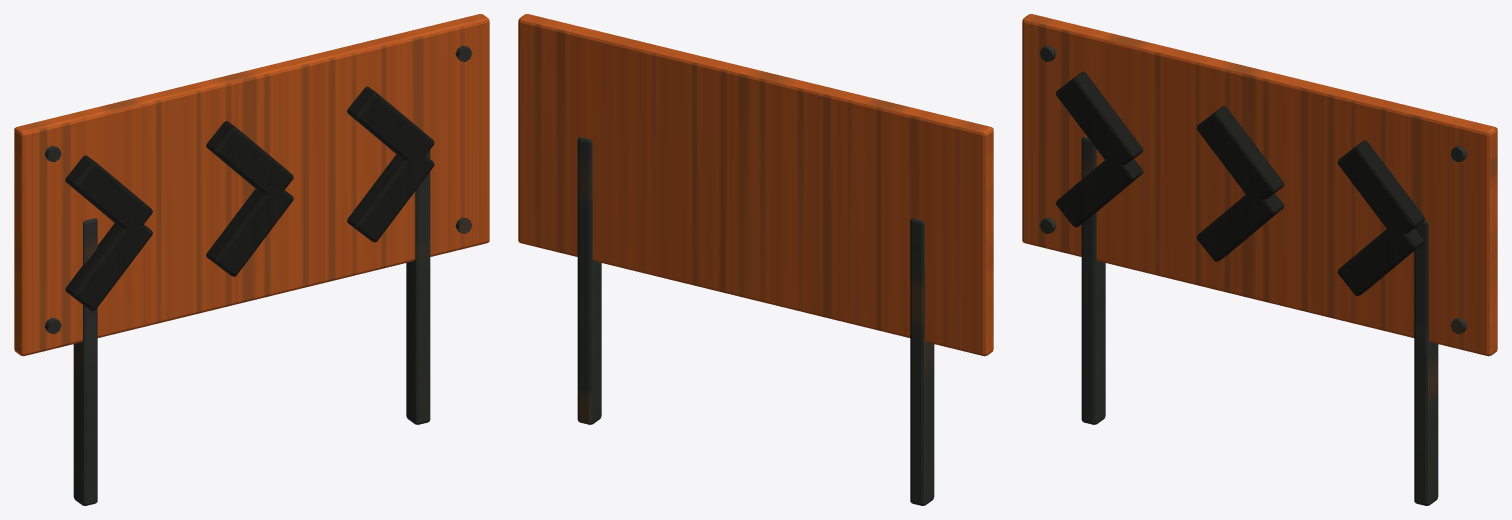
Rendered from chevron-sign.obj.
3 views of the same model, side by side, from view 1: azimuth 30°, elevation 25°; view 2: azimuth 150°, elevation 25°; view 3: azimuth 330°, elevation 25° (orthographic).
Parts seen in each view (by area): view 1: chevron-sign; view 2: chevron-sign; view 3: chevron-sign.
Part boxes in pixels (x1,y1,x2,y2): chevron-sign: [14, 14, 489, 505]; chevron-sign: [518, 14, 993, 505]; chevron-sign: [1022, 14, 1497, 505].
Bounding box in the file's own units: 2.4 × 1.9 × 0.176.
1 material, 1 textured.
